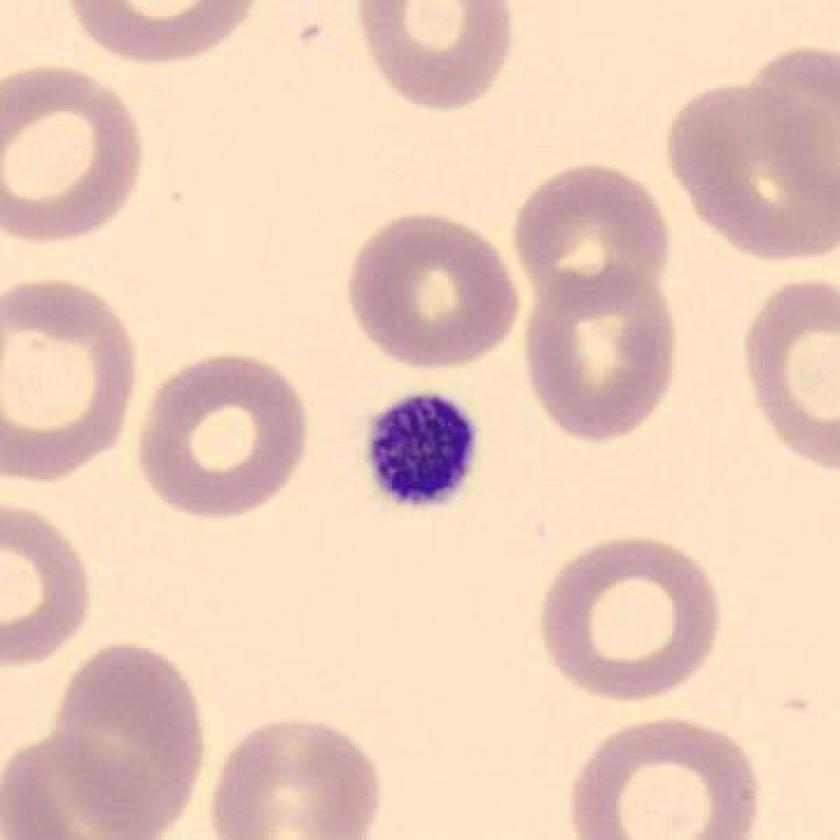platelets: (351, 381, 491, 520)
